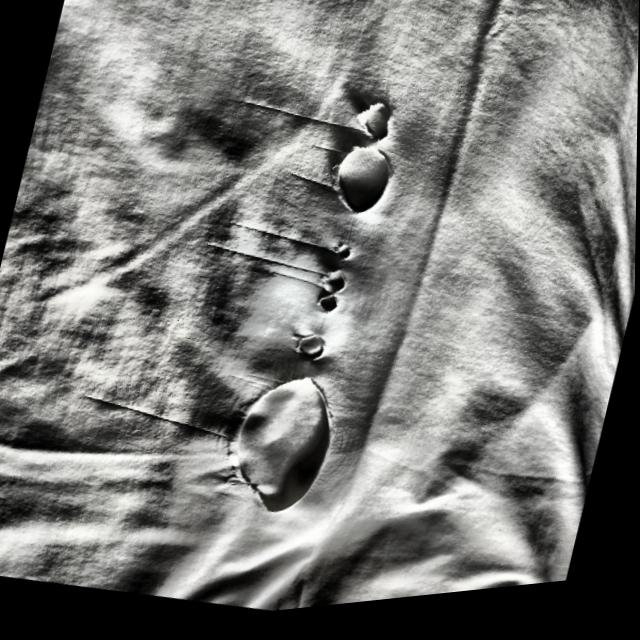Hole: (329, 246, 360, 273)
